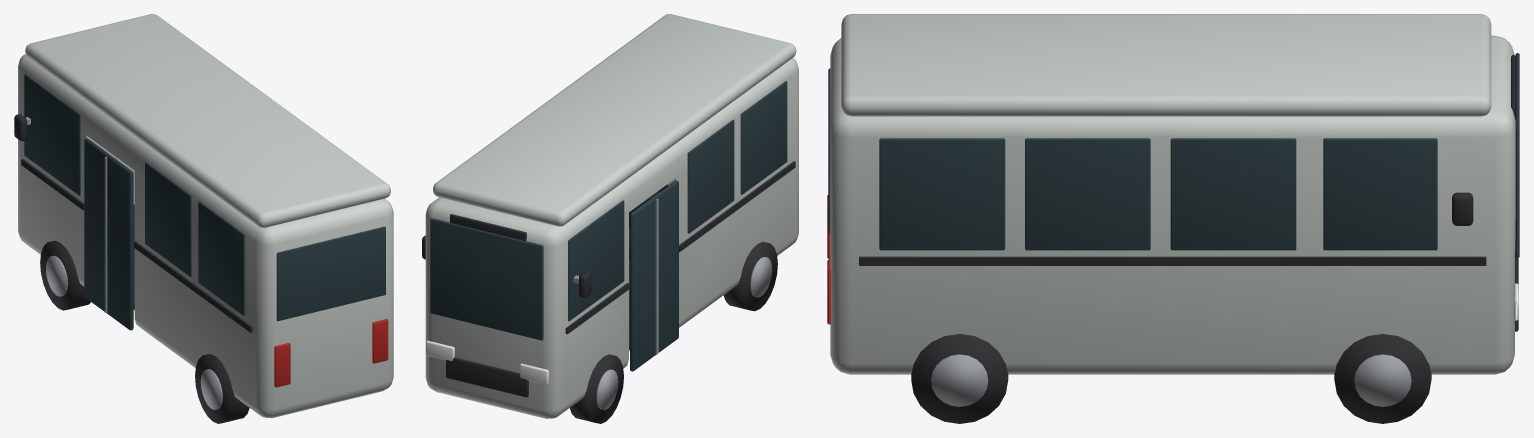
Rendered from shuttlebus-near.glb.
3 renders of one model, left to right at view 1: azimuth 30°, elevation 25°; view 2: azimuth 150°, elevation 25°; view 3: azimuth 270°, elevation 25°, orthographic. The views are drawn at different scales.
Parts seen in each view (by area): view 1: body, BoardingDoorLeft, WheelRearL, WheelFrontL; view 2: body, BoardingDoorLeft, WheelFrontL, WheelRearL; view 3: body, WheelRearR, WheelFrontR.
Part boxes in pixels (x1,y1,x2,y2): body: (14,14,393,418); BoardingDoorLeft: (84,138,133,330); WheelRearL: (195,354,249,423); WheelFrontL: (40,240,90,310); body: (422,14,798,418); BoardingDoorLeft: (630,180,678,371); WheelFrontL: (570,354,623,423); WheelRearL: (723,241,777,311); body: (827,14,1519,374); WheelRearR: (911,334,1008,423); WheelFrontR: (1334,334,1431,423).
Bounding box in the file's own units: 2.1 × 2.85 × 5.56.
